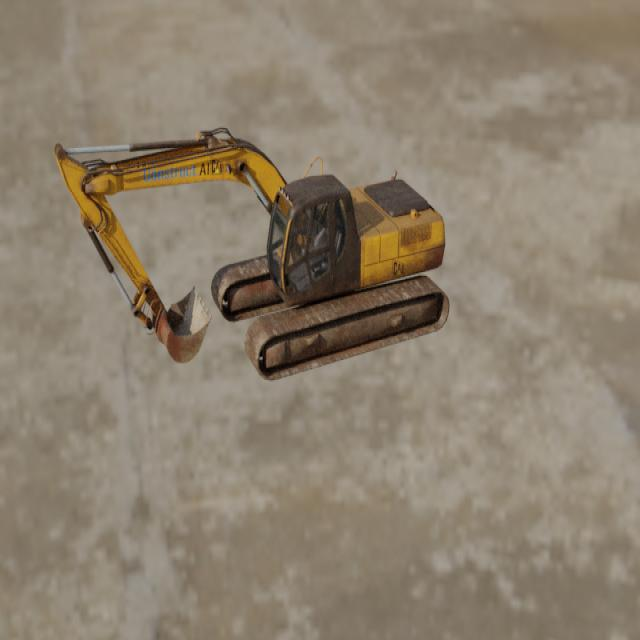excavator: (53, 127, 450, 381)
